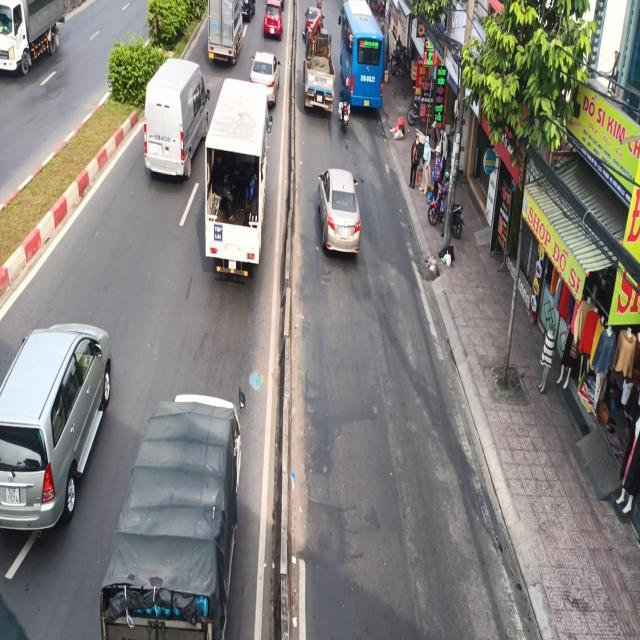bus: (337, 0, 386, 111)
car: (0, 321, 112, 533), (142, 57, 209, 182), (316, 167, 362, 256)
truck: (99, 387, 251, 640), (202, 77, 270, 282), (0, 0, 65, 77)
